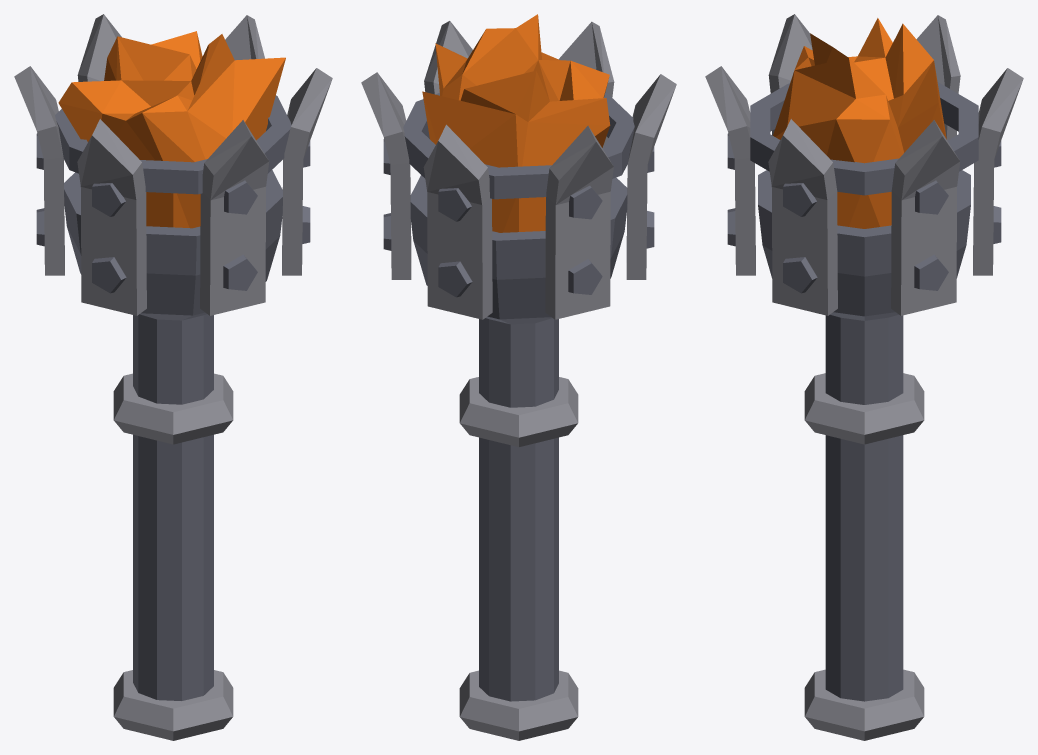
Rendered from _torch_2.fbx.
3 views of the same model, side by side, from view 1: azimuth 30°, elevation 25°; view 2: azimuth 150°, elevation 25°; view 3: azimuth 270°, elevation 25° (orthographic).
Parts seen in each view (by area): view 1: torch_2; view 2: torch_2; view 3: torch_2.
Part boxes in pixels (x1,y1,x2,y2): torch_2: [14, 14, 332, 740]; torch_2: [361, 14, 676, 740]; torch_2: [705, 14, 1023, 740].
Bounding box in the file's own units: 60.97 × 166 × 69.9.
